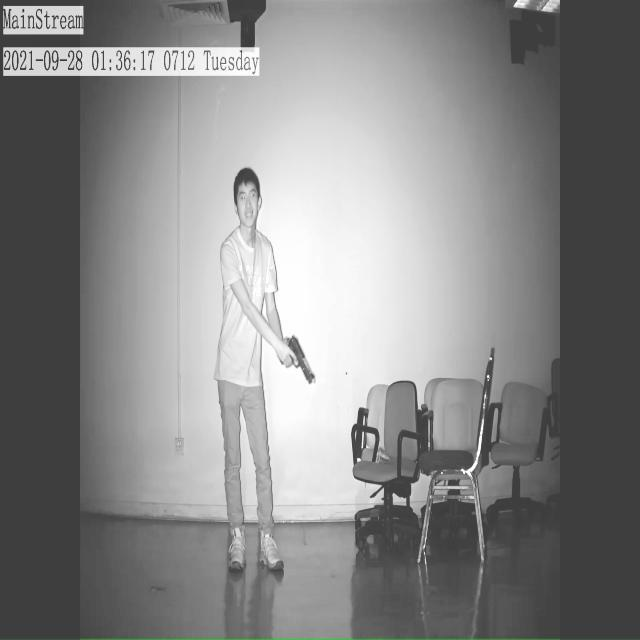Gun: (272, 328, 324, 389)
